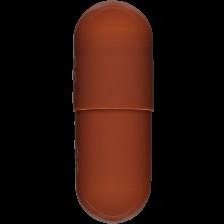0781-2855: (0, 0, 224, 224)
